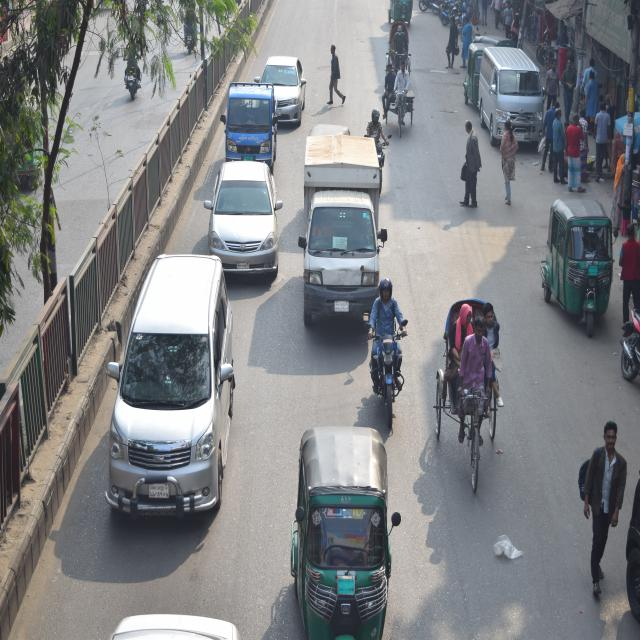car: (210, 158, 286, 278), (262, 50, 305, 121)
microbus: (120, 232, 226, 522), (468, 24, 551, 168)
motorbike: (369, 274, 411, 411)
pickup-van: (299, 124, 386, 302), (225, 83, 282, 160)
